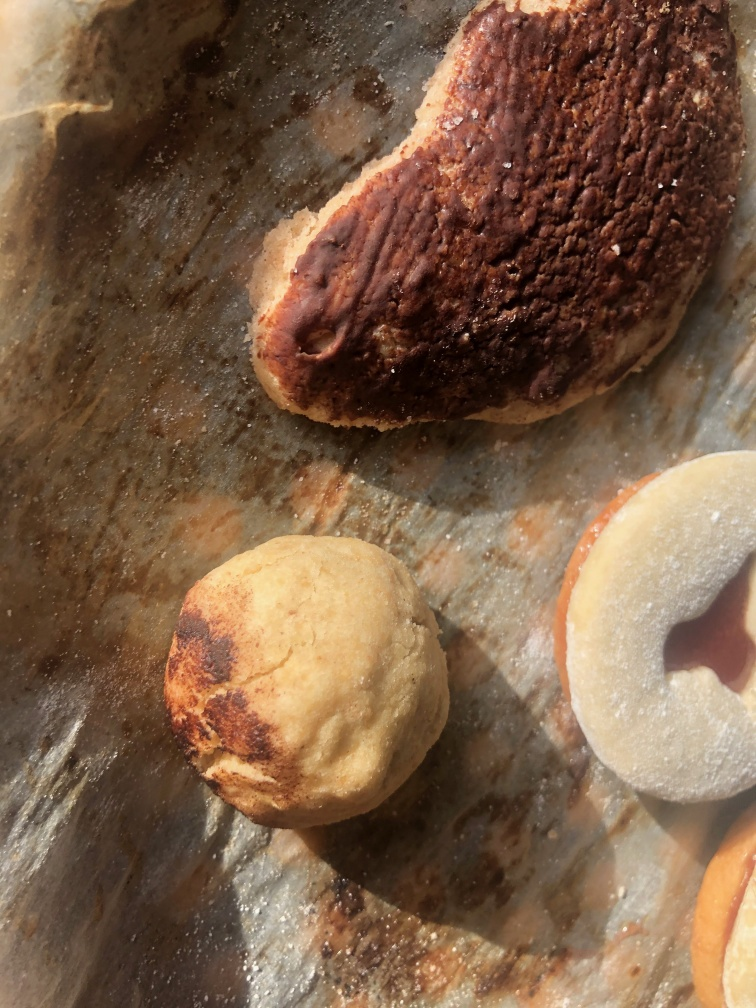christmas shortbread with jam: (548, 450, 756, 808)
snowball: (159, 528, 487, 805)
weird #1: (243, 4, 738, 434)
